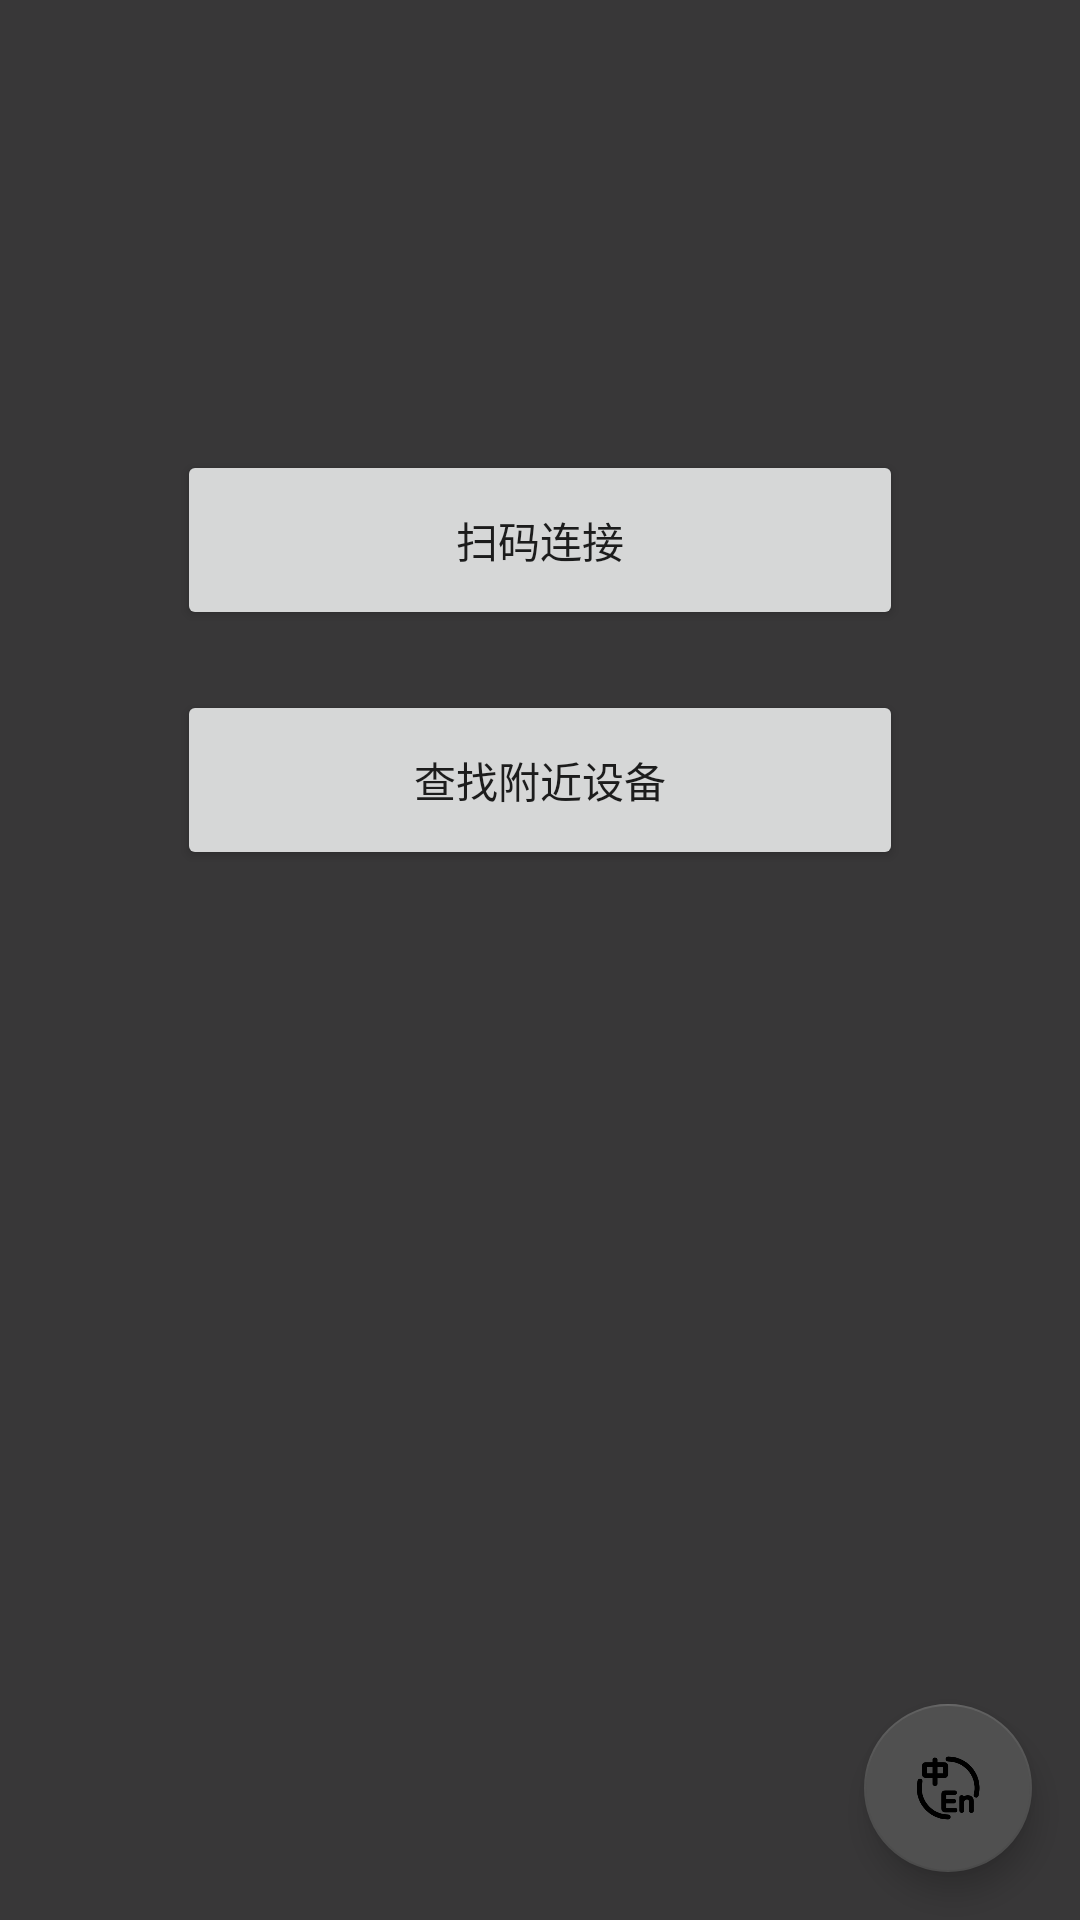

Named icons in this screenshot (1080px x 1920px) and their bounding boxes, BBox(x1, y1, x2, y2):
language: BBox(864, 1704, 1032, 1872)
